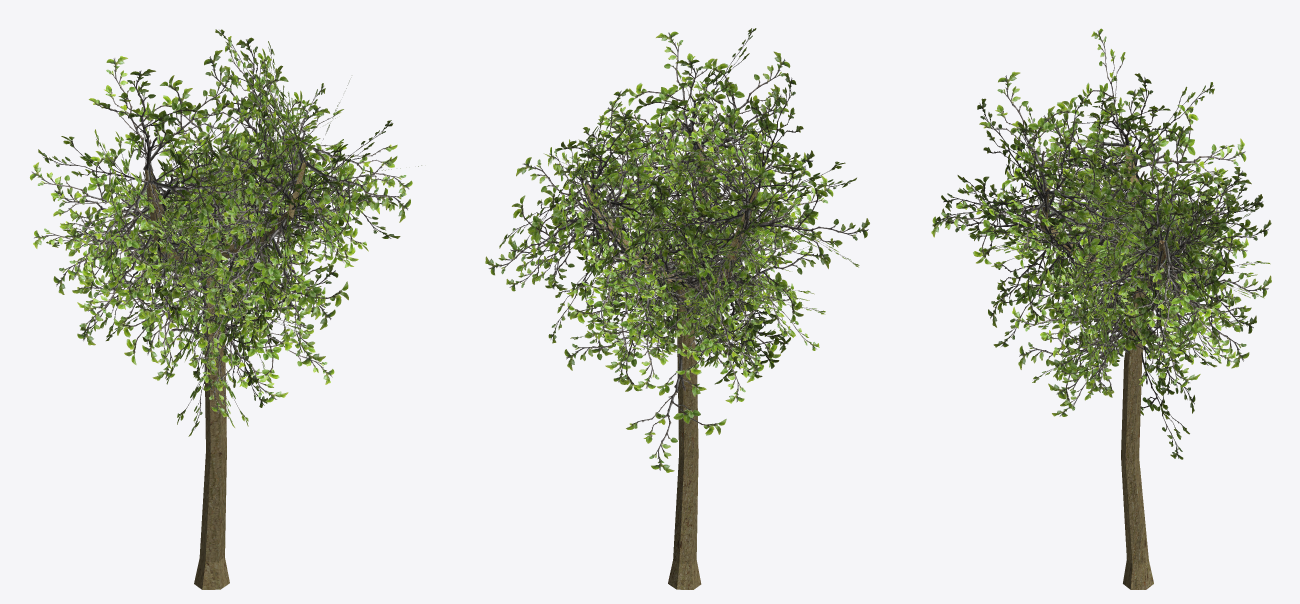
The model's file is Tree3.fbx.
3 views of the same model, side by side, from view 1: azimuth 30°, elevation 25°; view 2: azimuth 150°, elevation 25°; view 3: azimuth 270°, elevation 25° (orthographic). The views are drawn at different scales.
Parts seen in each view (by area): view 1: Tree3, Tree3|Tree branchvebg-preview|Dupli|198, Tree3|Tree branchvebg-preview|Dupli|133, Tree3|Tree branchvebg-preview|Dupli|196, Tree3|Tree branchvebg-preview|Dupli|144, Tree3|Tree branchvebg-preview|Dupli|129, Tree3|Tree branchvebg-preview|Dupli|128, Tree3|Tree branchvebg-preview|Dupli|75, Tree3|Tree branchvebg-preview|Dupli|132, Tree3|Tree branchvebg-preview|Dupli|77, Tree3|Tree branchvebg-preview|Dupli|197, Tree3|Tree branchvebg-preview|Dupli|28 (+58 smaller); view 2: Tree3, Tree3|Tree branchvebg-preview|Dupli|26, Tree3|Tree branchvebg-preview|Dupli|124, Tree3|Tree branchvebg-preview|Dupli|66, Tree3|Tree branchvebg-preview|Dupli|88, Tree3|Tree branchvebg-preview|Dupli|104, Tree3|Tree branchvebg-preview|Dupli|179, Tree3|Tree branchvebg-preview|Dupli|44, Tree3|Tree branchvebg-preview|Dupli|11, Tree3|Tree branchvebg-preview|Dupli|52, Tree3|Tree branchvebg-preview|Dupli|92, Tree3|Tree branchvebg-preview|Dupli|131 (+57 smaller); view 3: Tree3, Tree3|Tree branchvebg-preview|Dupli|176, Tree3|Tree branchvebg-preview|Dupli|69, Tree3|Tree branchvebg-preview|Dupli|48, Tree3|Tree branchvebg-preview|Dupli|192, Tree3|Tree branchvebg-preview|Dupli|99, Tree3|Tree branchvebg-preview|Dupli|53, Tree3|Tree branchvebg-preview|Dupli|189, Tree3|Tree branchvebg-preview|Dupli|56, Tree3|Tree branchvebg-preview|Dupli|66, Tree3|Tree branchvebg-preview|Dupli|195, Tree3|Tree branchvebg-preview|Dupli|193 (+56 smaller).
Boxes of the visible parts, x1,y1,x2,y2 form: Tree3: [145, 137, 306, 589]; Tree3|Tree branchvebg-preview|Dupli|198: [204, 217, 301, 315]; Tree3|Tree branchvebg-preview|Dupli|133: [60, 181, 161, 285]; Tree3|Tree branchvebg-preview|Dupli|196: [306, 156, 410, 243]; Tree3|Tree branchvebg-preview|Dupli|144: [260, 237, 348, 364]; Tree3|Tree branchvebg-preview|Dupli|129: [151, 147, 263, 250]; Tree3|Tree branchvebg-preview|Dupli|128: [98, 69, 205, 170]; Tree3|Tree branchvebg-preview|Dupli|75: [72, 234, 163, 345]; Tree3|Tree branchvebg-preview|Dupli|132: [143, 66, 236, 170]; Tree3|Tree branchvebg-preview|Dupli|77: [29, 151, 150, 219]; Tree3|Tree branchvebg-preview|Dupli|197: [212, 150, 297, 257]; Tree3|Tree branchvebg-preview|Dupli|28: [196, 50, 288, 151]; Tree3: [585, 125, 758, 589]; Tree3|Tree branchvebg-preview|Dupli|26: [626, 353, 726, 472]; Tree3|Tree branchvebg-preview|Dupli|124: [748, 181, 869, 263]; Tree3|Tree branchvebg-preview|Dupli|66: [485, 195, 594, 284]; Tree3|Tree branchvebg-preview|Dupli|88: [721, 225, 829, 322]; Tree3|Tree branchvebg-preview|Dupli|104: [704, 122, 800, 227]; Tree3|Tree branchvebg-preview|Dupli|179: [628, 31, 714, 139]; Tree3|Tree branchvebg-preview|Dupli|44: [545, 164, 628, 255]; Tree3|Tree branchvebg-preview|Dupli|11: [595, 275, 686, 389]; Tree3|Tree branchvebg-preview|Dupli|52: [603, 136, 700, 214]; Tree3|Tree branchvebg-preview|Dupli|92: [682, 290, 762, 403]; Tree3|Tree branchvebg-preview|Dupli|131: [631, 199, 751, 268]; Tree3: [1039, 145, 1170, 589]; Tree3|Tree branchvebg-preview|Dupli|176: [979, 71, 1079, 192]; Tree3|Tree branchvebg-preview|Dupli|69: [1101, 130, 1191, 250]; Tree3|Tree branchvebg-preview|Dupli|48: [1128, 240, 1221, 354]; Tree3|Tree branchvebg-preview|Dupli|192: [1048, 165, 1160, 261]; Tree3|Tree branchvebg-preview|Dupli|99: [1135, 105, 1246, 196]; Tree3|Tree branchvebg-preview|Dupli|53: [1162, 268, 1251, 368]; Tree3|Tree branchvebg-preview|Dupli|189: [1042, 200, 1151, 284]; Tree3|Tree branchvebg-preview|Dupli|56: [1169, 176, 1256, 258]; Tree3|Tree branchvebg-preview|Dupli|66: [1162, 250, 1256, 338]; Tree3|Tree branchvebg-preview|Dupli|195: [1048, 94, 1101, 208]; Tree3|Tree branchvebg-preview|Dupli|193: [931, 183, 1049, 264].
Size of the model in its own units: 540 by 800 by 510.
2 materials, 2 textured.
